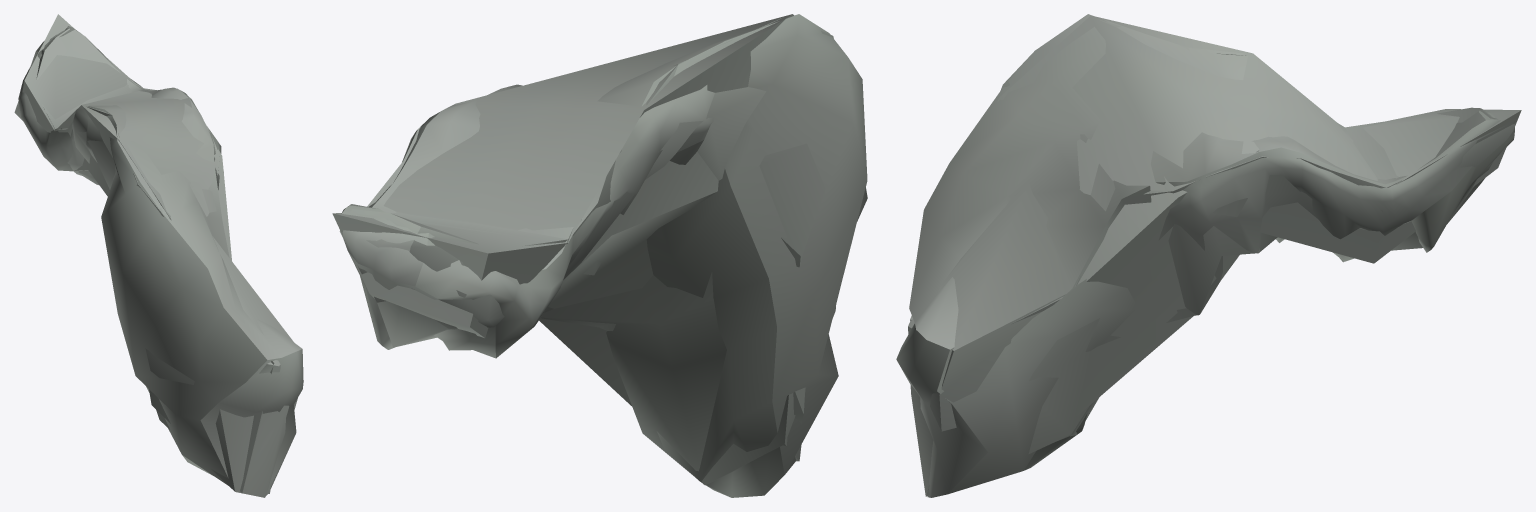
The model's file is Env_stump03_LOD_Mesh.fbx.
The picture shows the model from 3 angles, left to right: view 1: azimuth 30°, elevation 25°; view 2: azimuth 150°, elevation 25°; view 3: azimuth 270°, elevation 25°; orthographic projection. The views are drawn at different scales.
Visible parts, largest first — view 1: Env_stump03_LOD1_Mesh, Env_stump03_LOD3_Mesh, Env_stump03_LOD2_Mesh; view 2: Env_stump03_LOD1_Mesh, Env_stump03_LOD3_Mesh, Env_stump03_LOD2_Mesh; view 3: Env_stump03_LOD1_Mesh, Env_stump03_LOD3_Mesh, Env_stump03_LOD2_Mesh.
Boxes of the visible parts, left/top/right/bottom form: Env_stump03_LOD1_Mesh: left=18, top=26, right=303, bottom=495; Env_stump03_LOD3_Mesh: left=22, top=14, right=274, bottom=493; Env_stump03_LOD2_Mesh: left=14, top=28, right=297, bottom=497; Env_stump03_LOD1_Mesh: left=341, top=14, right=867, bottom=497; Env_stump03_LOD3_Mesh: left=332, top=14, right=805, bottom=423; Env_stump03_LOD2_Mesh: left=339, top=18, right=836, bottom=485; Env_stump03_LOD1_Mesh: left=896, top=14, right=1515, bottom=497; Env_stump03_LOD3_Mesh: left=910, top=15, right=1521, bottom=495; Env_stump03_LOD2_Mesh: left=908, top=19, right=1515, bottom=496.
Bounding box in the file's own units: 37.62 × 69.6 × 91.89.
